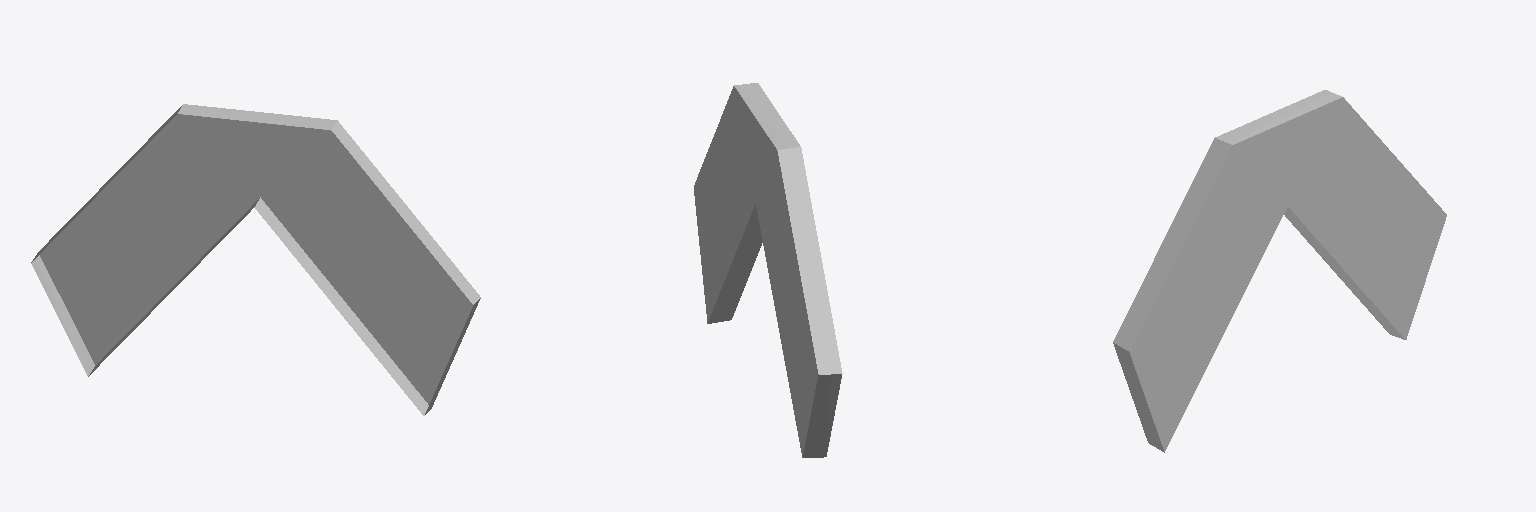
The model's file is li-fang-ti-.001_cell.172.obj.
The picture shows the model from 3 angles: view 1: azimuth 30°, elevation 25°; view 2: azimuth 150°, elevation 25°; view 3: azimuth 270°, elevation 25°; orthographic projection.
Parts seen in each view (by area): view 1: 立方体.001_cell.172; view 2: 立方体.001_cell.172; view 3: 立方体.001_cell.172.
Boxes of the visible parts, x1=… form: 立方体.001_cell.172: x1=31, y1=104, x2=480, y2=415; 立方体.001_cell.172: x1=694, y1=83, x2=842, y2=457; 立方体.001_cell.172: x1=1113, y1=90, x2=1446, y2=452.
Size of the model in its own units: 0.4355 by 0.3867 by 0.4211.